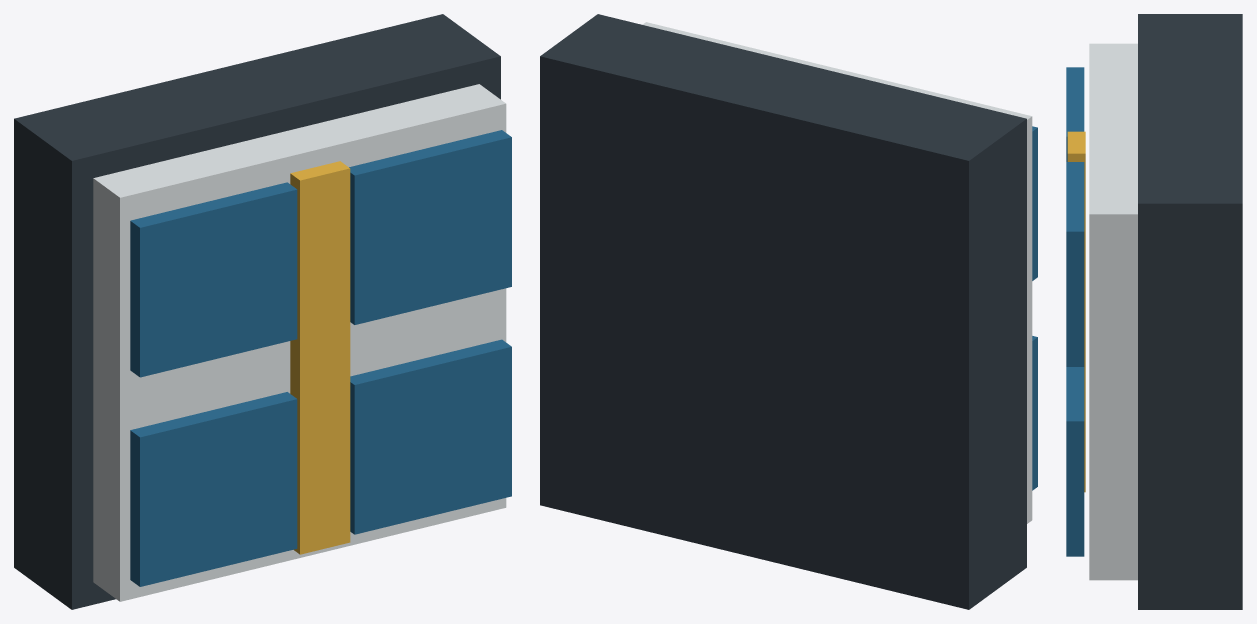
File: perilune-cell-pack-s.glb
3 views of the same model, side by side, from view 1: azimuth 30°, elevation 25°; view 2: azimuth 150°, elevation 25°; view 3: azimuth 270°, elevation 25° (orthographic). The views are drawn at different scales.
Parts seen in each view (by area): view 1: SM_Power_CellPackS_Back, SM_Power_CellPackS_Face, SM_Power_CellPackS_Cell_03, SM_Power_CellPackS_Cell_01, SM_Power_CellPackS_Cell_02, SM_Power_CellPackS_Cell_04, SM_Power_CellPackS_Bus; view 2: SM_Power_CellPackS_Back, SM_Power_CellPackS_Face, SM_Power_CellPackS_Cell_03, SM_Power_CellPackS_Cell_01; view 3: SM_Power_CellPackS_Back, SM_Power_CellPackS_Face, SM_Power_CellPackS_Cell_04, SM_Power_CellPackS_Cell_02, SM_Power_CellPackS_Cell_03, SM_Power_CellPackS_Bus.
Boxes of the visible parts, box(x1,y1,x2,y2) form: SM_Power_CellPackS_Back: box(14, 14, 500, 609); SM_Power_CellPackS_Face: box(93, 84, 506, 601); SM_Power_CellPackS_Cell_03: box(130, 182, 297, 377); SM_Power_CellPackS_Cell_01: box(130, 392, 297, 586); SM_Power_CellPackS_Cell_02: box(350, 339, 511, 534); SM_Power_CellPackS_Cell_04: box(349, 130, 511, 324); SM_Power_CellPackS_Bus: box(290, 161, 350, 554); SM_Power_CellPackS_Back: box(540, 14, 1026, 609); SM_Power_CellPackS_Face: box(642, 22, 1032, 523); SM_Power_CellPackS_Cell_03: box(1032, 126, 1037, 280); SM_Power_CellPackS_Cell_01: box(1032, 336, 1037, 490); SM_Power_CellPackS_Back: box(1138, 14, 1242, 609); SM_Power_CellPackS_Face: box(1089, 43, 1137, 580); SM_Power_CellPackS_Cell_04: box(1066, 162, 1084, 366); SM_Power_CellPackS_Cell_02: box(1066, 367, 1084, 556); SM_Power_CellPackS_Cell_03: box(1066, 67, 1084, 161); SM_Power_CellPackS_Bus: box(1067, 131, 1085, 492).
Bounding box in the file's own units: 0.3 × 0.3 × 0.118.
